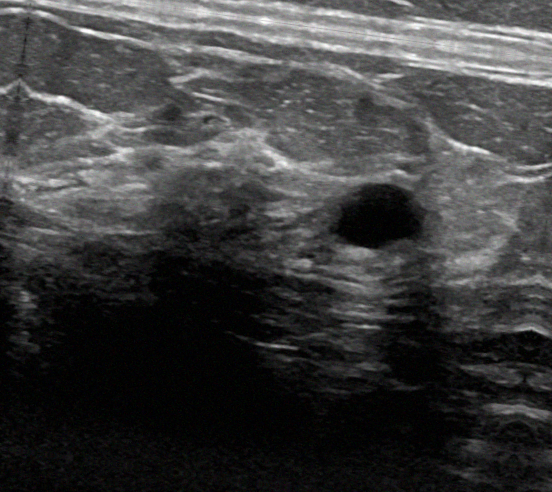Benign: (331, 176, 426, 251)
